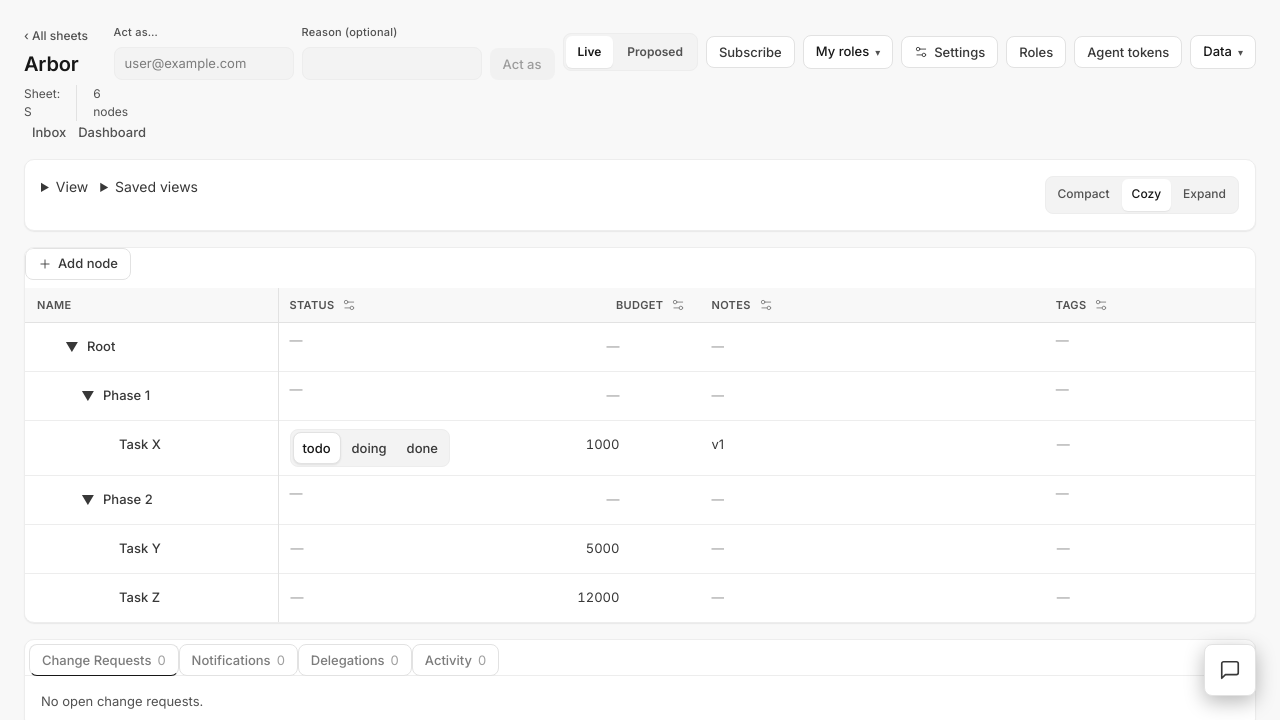
Admin modal — tab strip › renders an Admin header with three tabs, Roles active by default
The width and height of the screenshot is (1280, 720).
Check: the table with test id "tree-table" is shown, box [25,288,1255,622]
Click the button with test id "roles-admin-button" at (1036, 52), box [1006,36,1066,68]
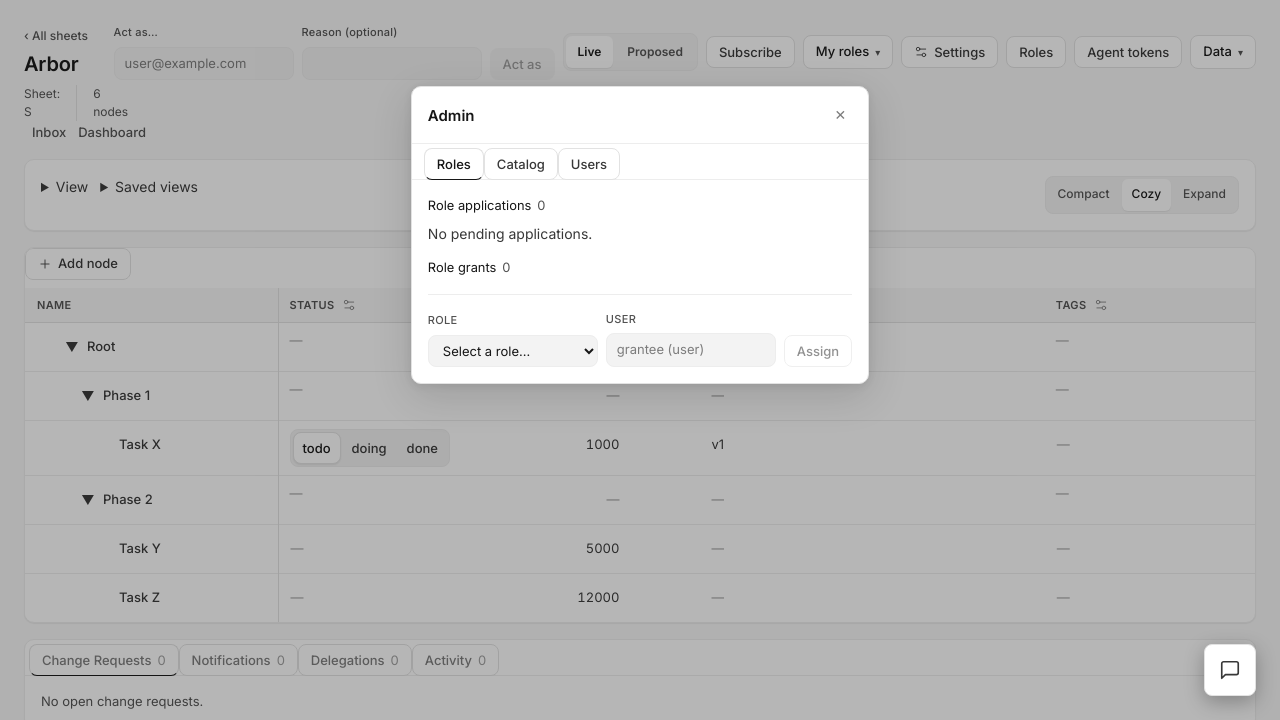
Check: the text "Admin" is shown, box [428,105,474,126]
Check: the element with test id "roles-panel" is shown, box [412,180,868,383]
